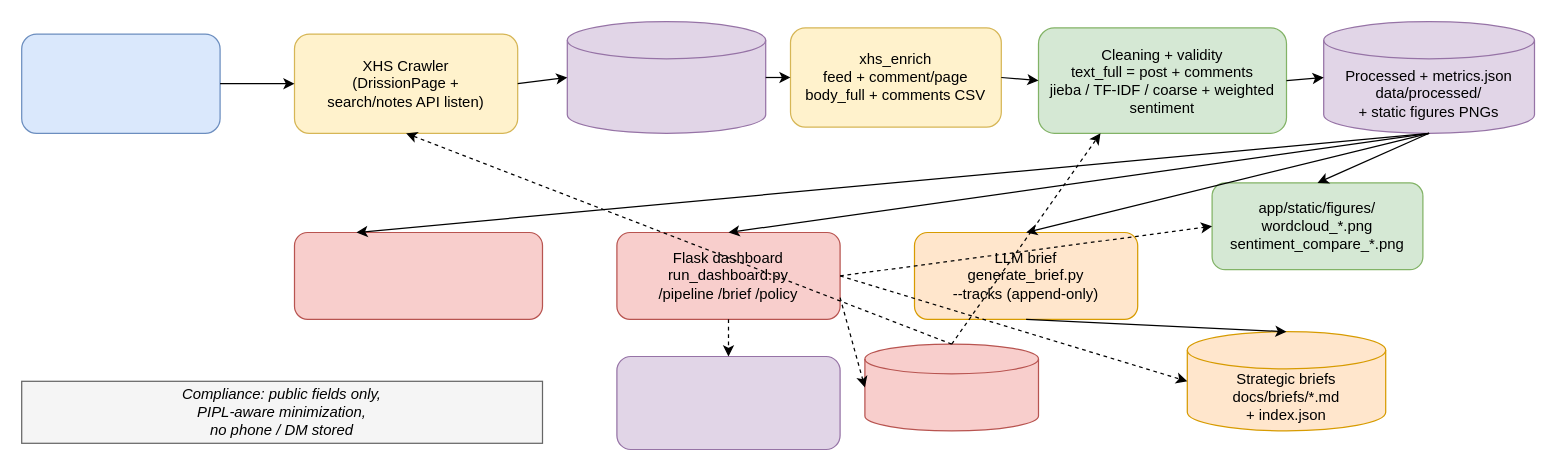
Image size: 1556x471. Some labels were removed from this diagram. The box of each missing label's shape, as (x1, y1, x2, y2) in pixels:
Keyword configs dse_keywords.yaml ielts_ai_keywords.yaml: (20, 33, 220, 133)
Notebook charts notebooks/analysis_xhs.ipynb: (293, 231, 542, 319)
Pipeline jobs data/jobs/ subprocess + logs: (864, 343, 1038, 431)
Policy prototype static/policy/HK/*.pdf static/geo/*.json policy_registry.py: (616, 355, 840, 450)
Raw CSV data/raw/xhs_*_raw.csv dedupe by note_id: (566, 20, 766, 133)
